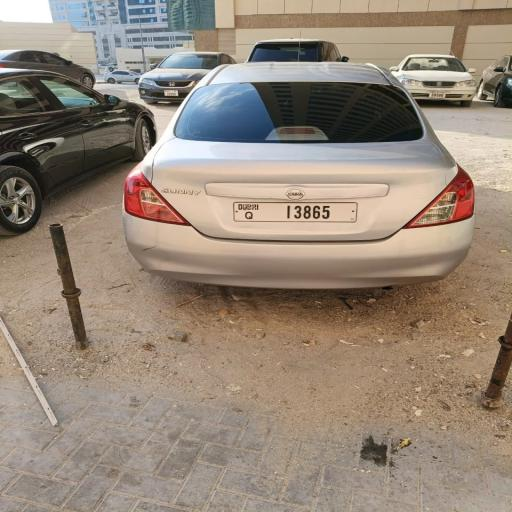license-plates: (233, 202, 358, 223), (429, 91, 446, 98), (164, 90, 178, 96)
